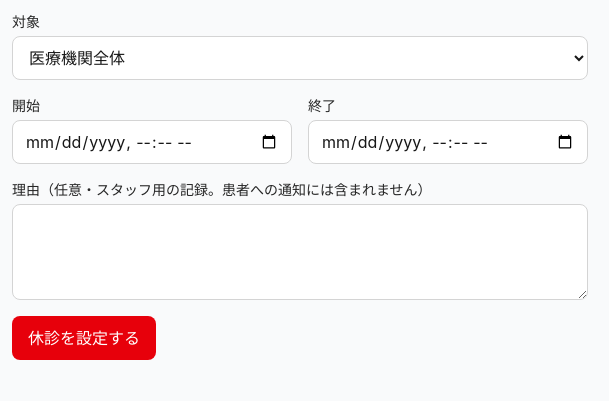
Test case: ClosureForm（休診・医師不在の設定、REQ-005-AC-3） › 終了が開始以前ならエラー
Expected: the dropdown labelled "対象" is shown, [12,36,588,80]
Type "2099-01-05T12:00" into the field labelled "開始" at (152, 142), box [12,120,292,164]
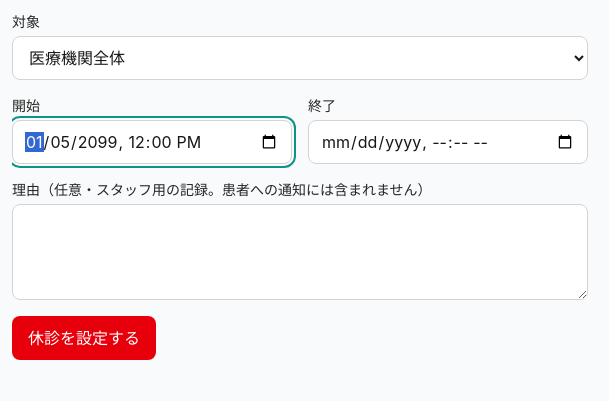
Type "2099-01-05T09:00" into the field labelled "終了" at (448, 142), box [308,120,588,164]
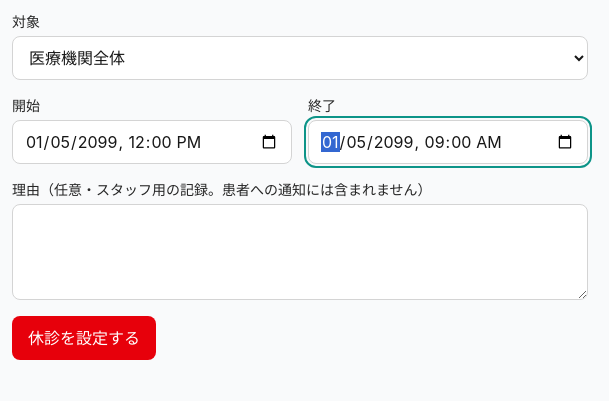
Click the button "休診を設定する" at (84, 338), box [12,316,156,360]
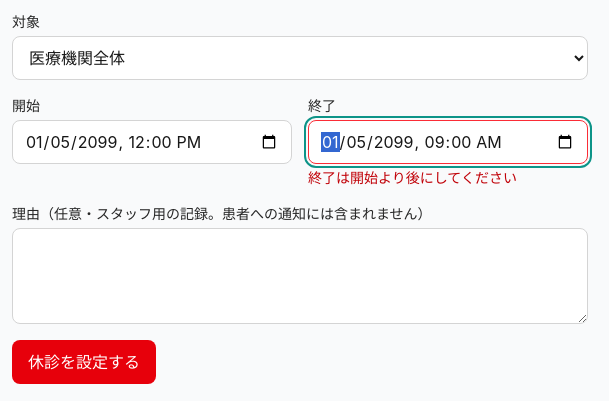
Now the text "終了は開始より後にしてください" is shown, box [308,169,517,186]
